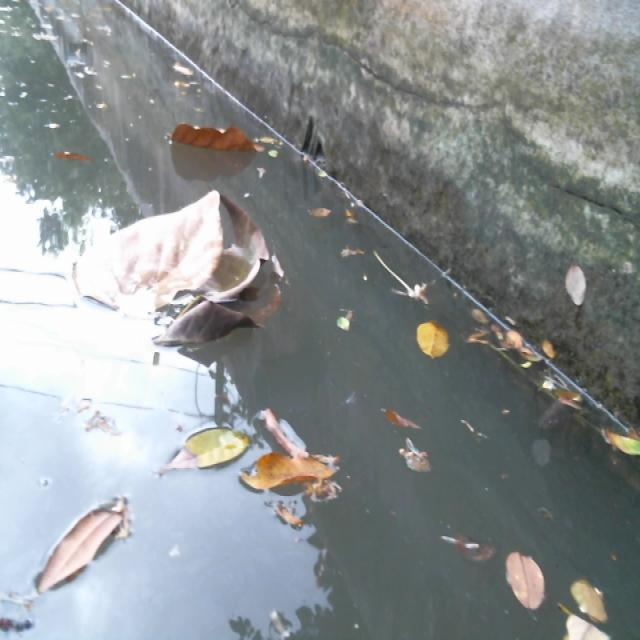Big-leaf: (146, 203, 290, 354), (75, 186, 238, 307), (245, 413, 336, 518), (179, 118, 262, 155)
Small-leaf: (27, 488, 138, 603), (475, 314, 596, 418), (147, 416, 255, 473), (408, 304, 462, 365), (500, 550, 549, 613), (372, 389, 428, 435), (445, 520, 495, 570), (572, 568, 616, 619), (556, 613, 622, 640), (397, 441, 434, 487), (595, 427, 640, 463), (55, 142, 92, 177), (165, 51, 198, 88), (336, 241, 372, 272), (306, 202, 341, 232), (332, 308, 359, 335), (344, 206, 363, 235)
